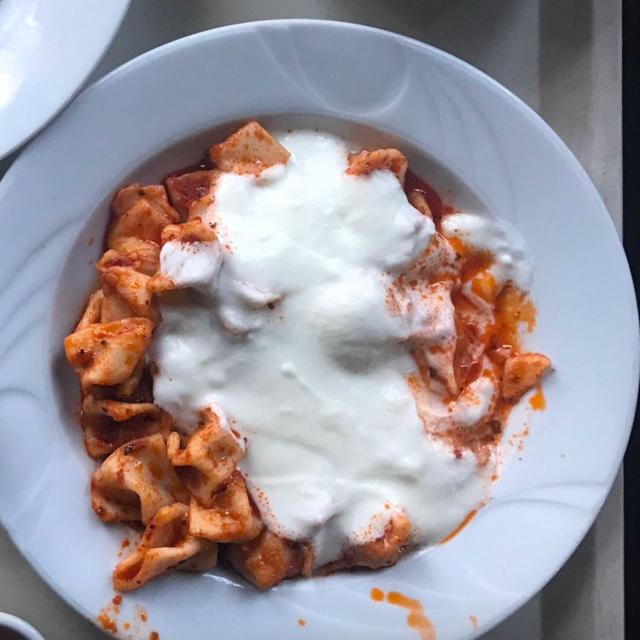ana_yemek: (64, 117, 551, 590)
